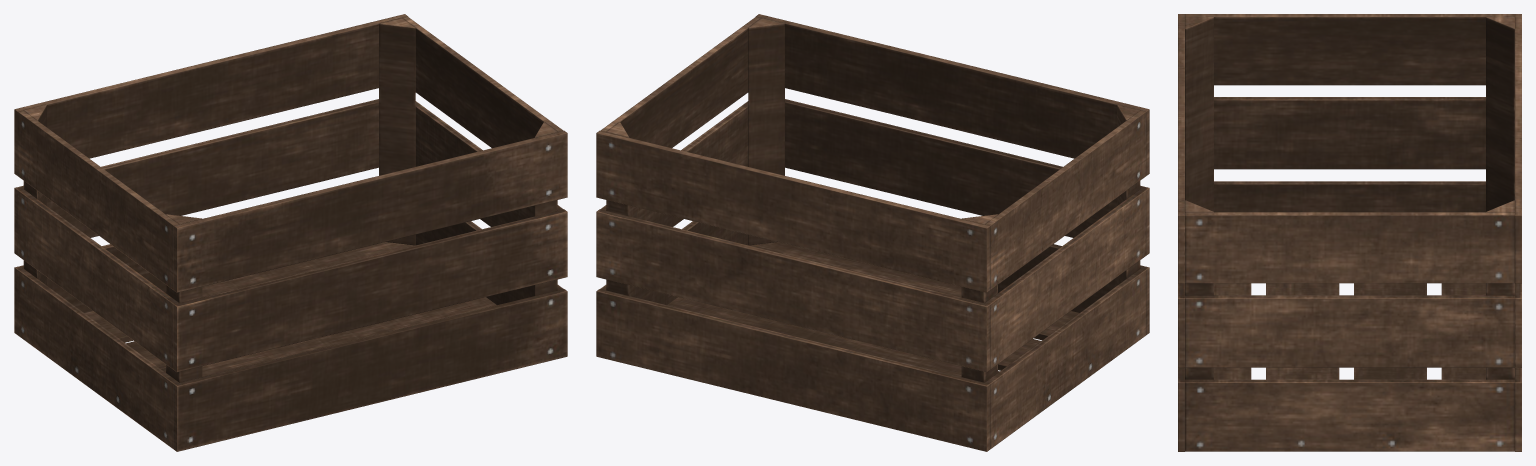
The model's file is Empty Crate.fbx.
3 renders of one model, left to right at view 1: azimuth 30°, elevation 25°; view 2: azimuth 150°, elevation 25°; view 3: azimuth 270°, elevation 25°, orthographic. The views are drawn at different scales.
Visible parts, largest first — view 1: Empty crate; view 2: Empty crate; view 3: Empty crate.
Boxes of the visible parts, bbox=[...] form: Empty crate: bbox=[14, 14, 567, 451]; Empty crate: bbox=[596, 14, 1149, 451]; Empty crate: bbox=[1178, 14, 1521, 451].
Size of the model in its own units: 64.78 by 35.47 by 46.72.
Materials: 1 (1 with a texture image).
